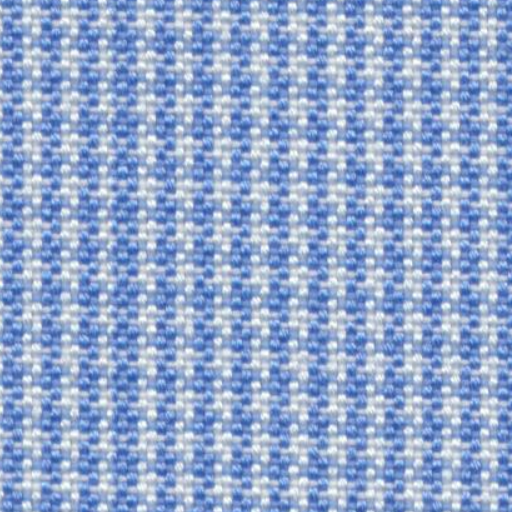TuoSha: (85, 10, 165, 498)
